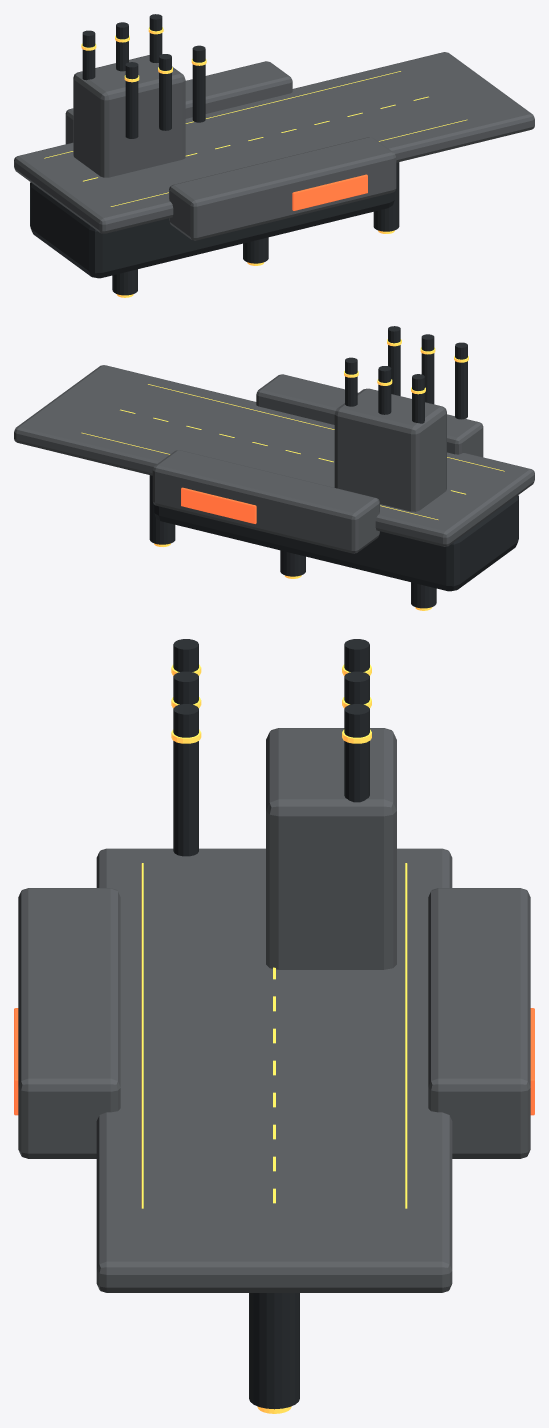
The model's file is inferno-ozone-base-v1.glb.
3 views of the same model, one above another, from view 1: azimuth 30°, elevation 25°; view 2: azimuth 150°, elevation 25°; view 3: azimuth 270°, elevation 25° (orthographic). The views are drawn at different scales.
Visible parts, largest first — view 1: inferno_ozone_base__lod0__Inferno aerospace shell, inferno_ozone_base__lod0__Inferno structural frame, inferno_ozone_base__lod0__Inferno recessed glazing, inferno_ozone_base__lod0__Inferno emissive guidance; view 2: inferno_ozone_base__lod0__Inferno aerospace shell, inferno_ozone_base__lod0__Inferno structural frame, inferno_ozone_base__lod0__Inferno recessed glazing, inferno_ozone_base__lod0__Inferno emissive guidance; view 3: inferno_ozone_base__lod0__Inferno aerospace shell, inferno_ozone_base__lod0__Inferno structural frame, inferno_ozone_base__lod0__Inferno emissive guidance, inferno_ozone_base__lod0__Inferno recessed glazing.
Boxes of the visible parts, x1,y1,x2,y2 form: inferno_ozone_base__lod0__Inferno aerospace shell: (14, 52, 534, 240); inferno_ozone_base__lod0__Inferno structural frame: (30, 14, 399, 295); inferno_ozone_base__lod0__Inferno recessed glazing: (292, 174, 367, 210); inferno_ozone_base__lod0__Inferno emissive guidance: (44, 27, 467, 297); inferno_ozone_base__lod0__Inferno aerospace shell: (14, 365, 534, 553); inferno_ozone_base__lod0__Inferno structural frame: (149, 326, 518, 608); inferno_ozone_base__lod0__Inferno recessed glazing: (181, 487, 256, 523); inferno_ozone_base__lod0__Inferno emissive guidance: (81, 339, 504, 610); inferno_ozone_base__lod0__Inferno aerospace shell: (18, 728, 530, 1292); inferno_ozone_base__lod0__Inferno structural frame: (173, 639, 369, 1409); inferno_ozone_base__lod0__Inferno emissive guidance: (141, 664, 407, 1413); inferno_ozone_base__lod0__Inferno recessed glazing: (14, 1008, 534, 1115).
Size of the model in its own units: 700 by 384 by 366.
